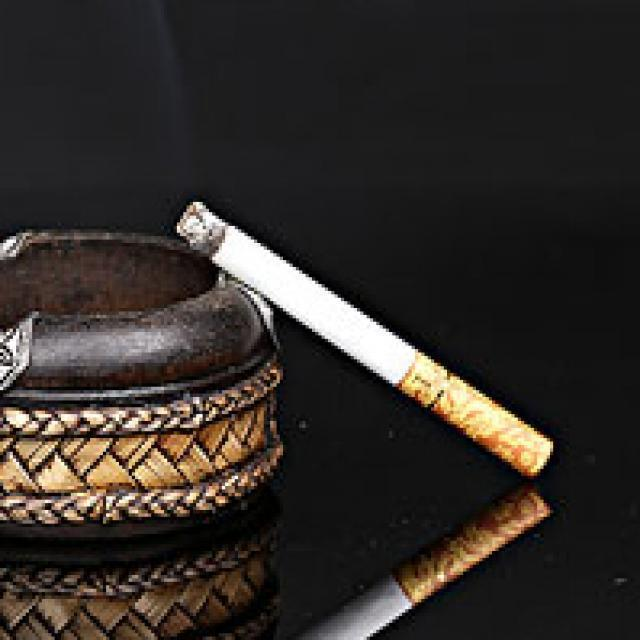rokok: (171, 192, 557, 486)
